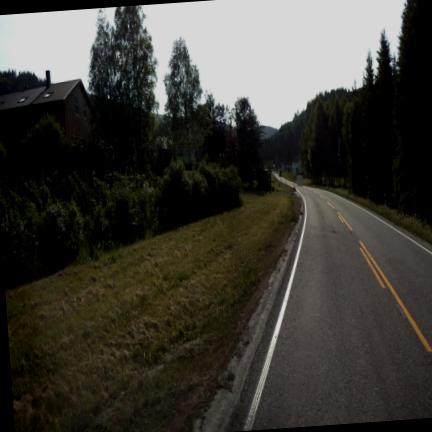Road: (231, 187, 431, 429)
